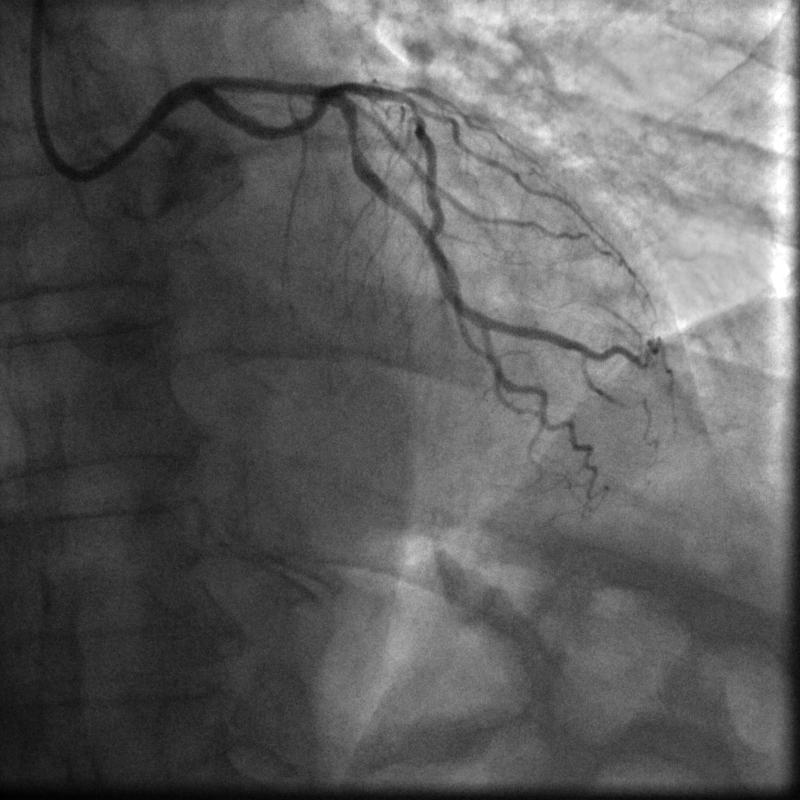Stenosis: (346, 126, 360, 147)
